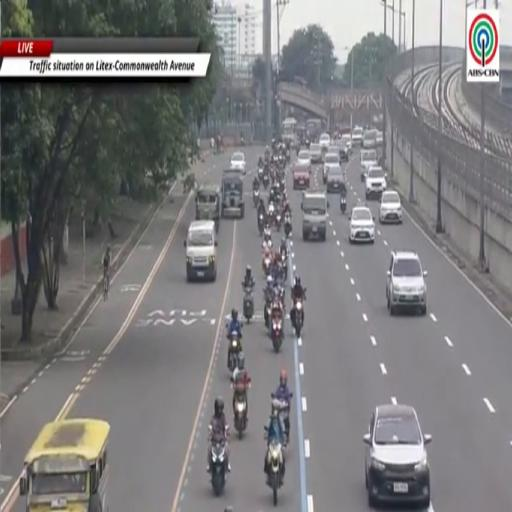car: (364, 404, 431, 509), (386, 251, 427, 315), (184, 220, 218, 282), (301, 192, 329, 242), (349, 205, 375, 244), (379, 190, 402, 223), (366, 166, 386, 200), (360, 150, 377, 182), (323, 152, 339, 183), (327, 165, 344, 194), (292, 164, 309, 189), (230, 152, 245, 174), (362, 129, 377, 149), (297, 150, 311, 171), (309, 143, 322, 164), (337, 140, 348, 162), (352, 126, 364, 146), (341, 134, 352, 154), (319, 134, 330, 151), (327, 140, 339, 153), (376, 130, 383, 147)
jeepney: (20, 419, 110, 511), (195, 185, 221, 232), (221, 170, 244, 218)
motorcycle: (209, 426, 226, 495), (267, 441, 283, 505), (232, 383, 250, 439), (228, 331, 241, 372), (279, 399, 290, 445), (271, 315, 283, 353), (292, 299, 303, 338), (243, 287, 253, 323), (280, 248, 287, 281), (264, 298, 271, 328), (284, 212, 292, 238), (262, 255, 271, 276), (268, 203, 275, 226), (264, 226, 271, 248), (258, 214, 264, 235), (275, 213, 281, 231), (253, 189, 259, 207), (340, 196, 346, 214), (262, 174, 269, 189), (258, 168, 263, 181), (286, 150, 290, 163), (240, 137, 244, 146)
